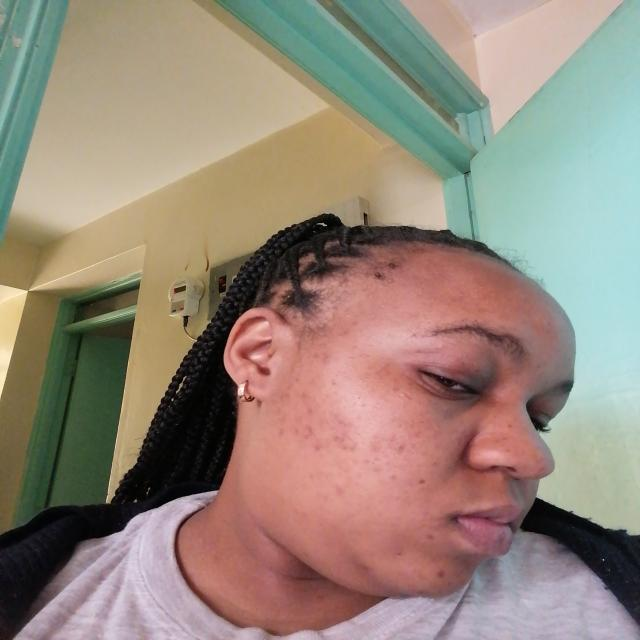Acne: (332, 434, 357, 451), (334, 321, 357, 339), (334, 412, 355, 429), (311, 351, 333, 364), (300, 425, 318, 440), (362, 453, 390, 462), (277, 413, 286, 438), (368, 436, 382, 452), (399, 391, 415, 402), (413, 475, 428, 485), (310, 444, 324, 454), (349, 401, 368, 408), (436, 568, 447, 580), (395, 443, 405, 455), (492, 436, 509, 443), (428, 458, 441, 467), (419, 448, 430, 458), (299, 391, 309, 401), (333, 485, 343, 495), (413, 429, 423, 439), (423, 534, 435, 542), (373, 465, 383, 474), (303, 408, 315, 415), (329, 378, 336, 388), (416, 589, 427, 595), (506, 422, 514, 430), (390, 474, 399, 481), (410, 442, 419, 448), (380, 362, 388, 367), (356, 395, 363, 400), (473, 288, 480, 292)
